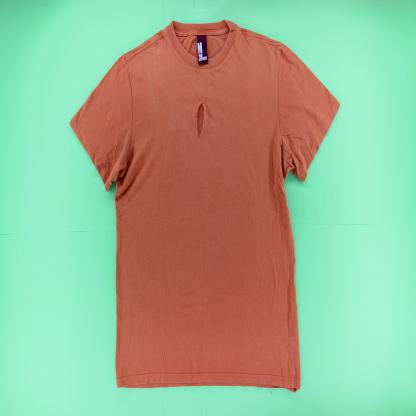hole: (196, 102, 205, 140)
